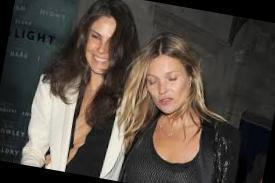Drunk: (147, 59, 186, 111), (87, 21, 118, 70)
